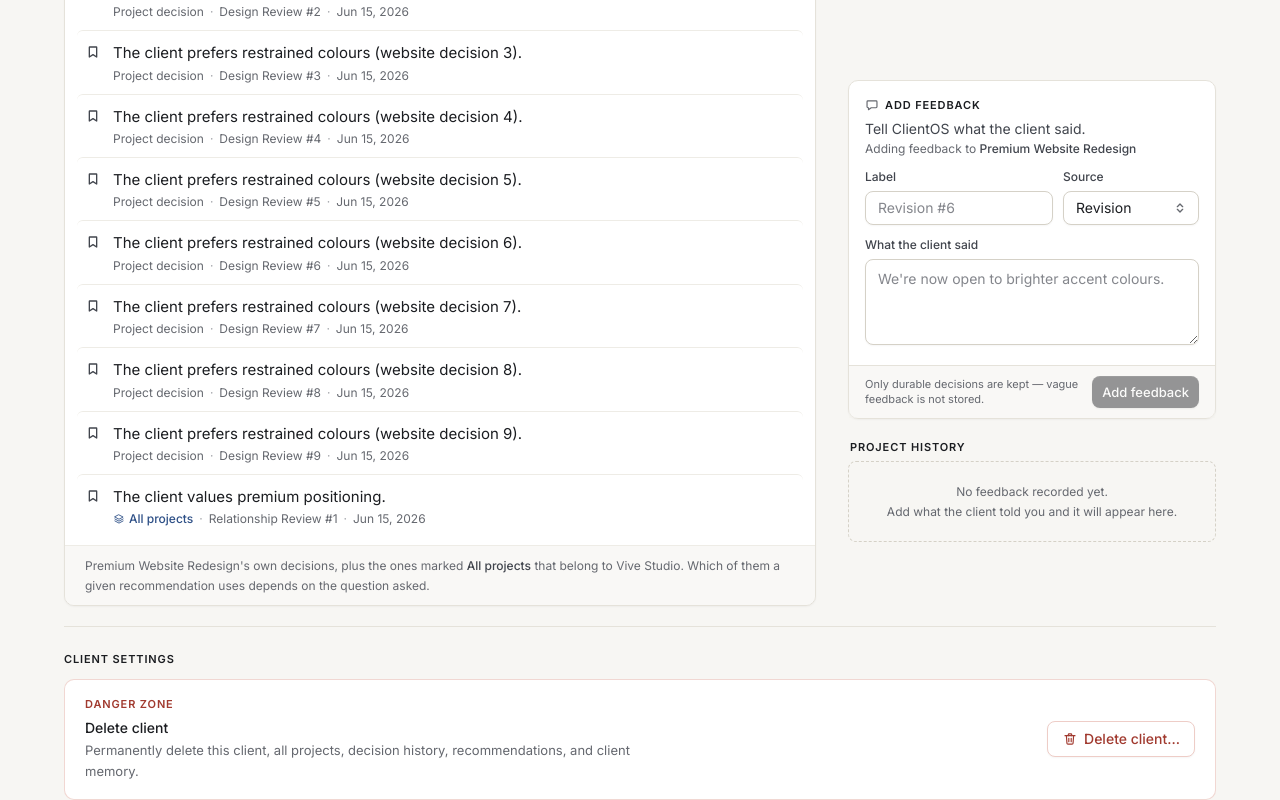
Test: Delete client — action and dialog › the exact client name plus a token enables deletion
(page scrolled)
Click the button "Delete client…" at (1121,739), box x1=1047 y1=721 x2=1195 y2=757
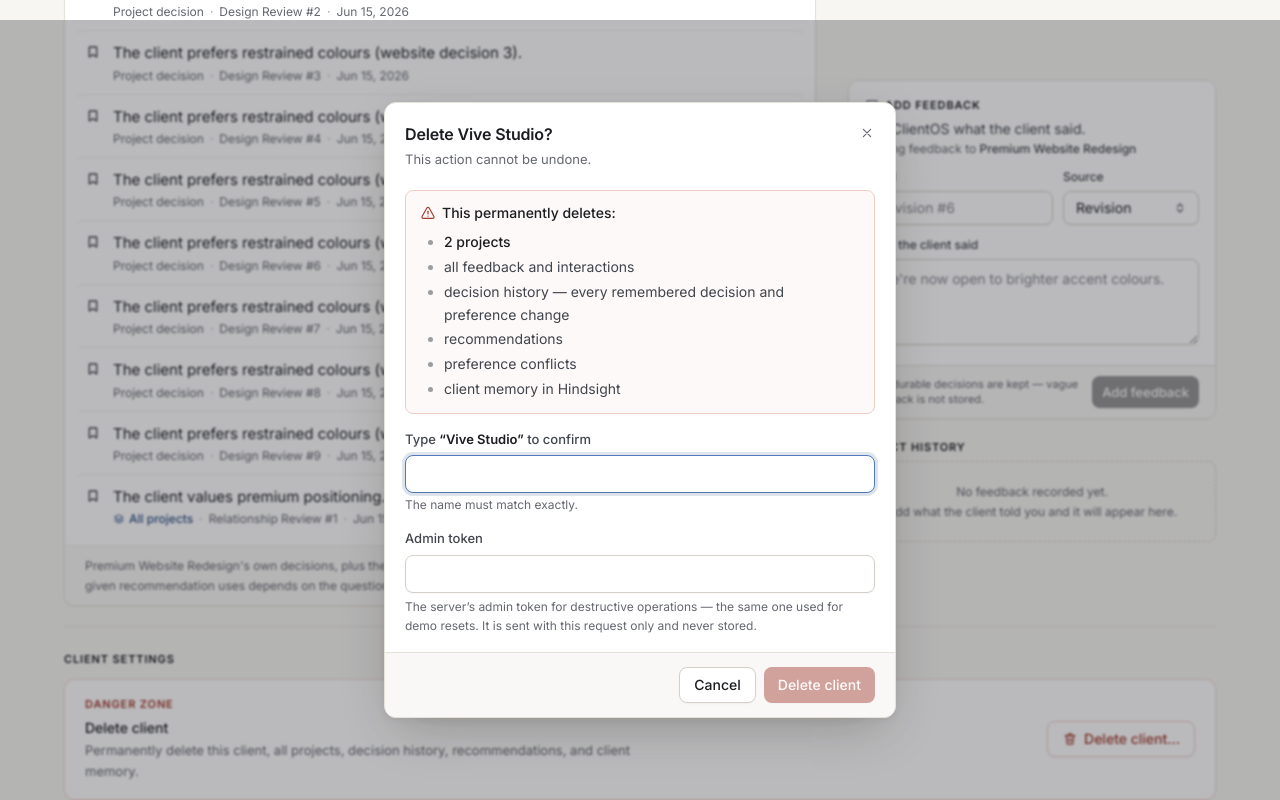
Type "Vive Studio" into the field labelled "Type “Vive Studio” to confirm" at (640,474), box x1=405 y1=455 x2=875 y2=493
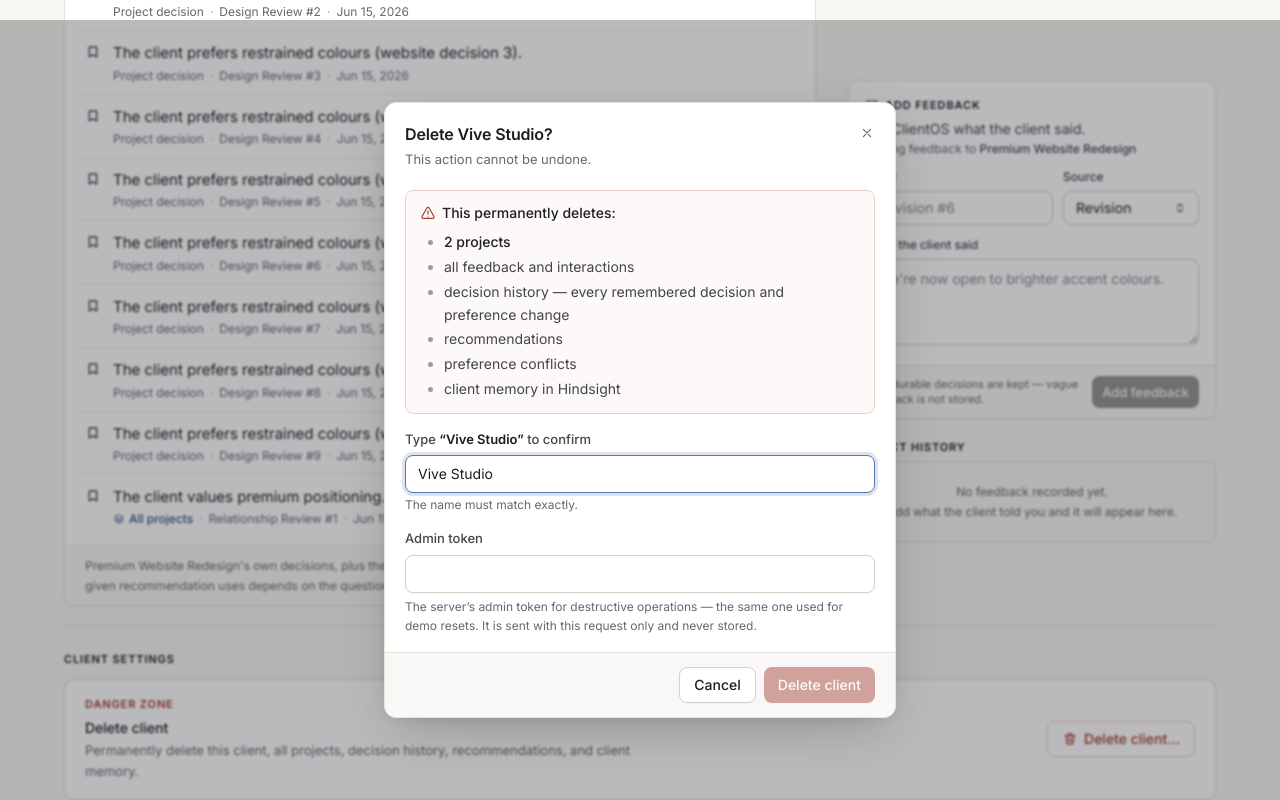
Type "operator-supplied-token" into the password field labelled "Admin token" at (640,574), box x1=405 y1=555 x2=875 y2=593
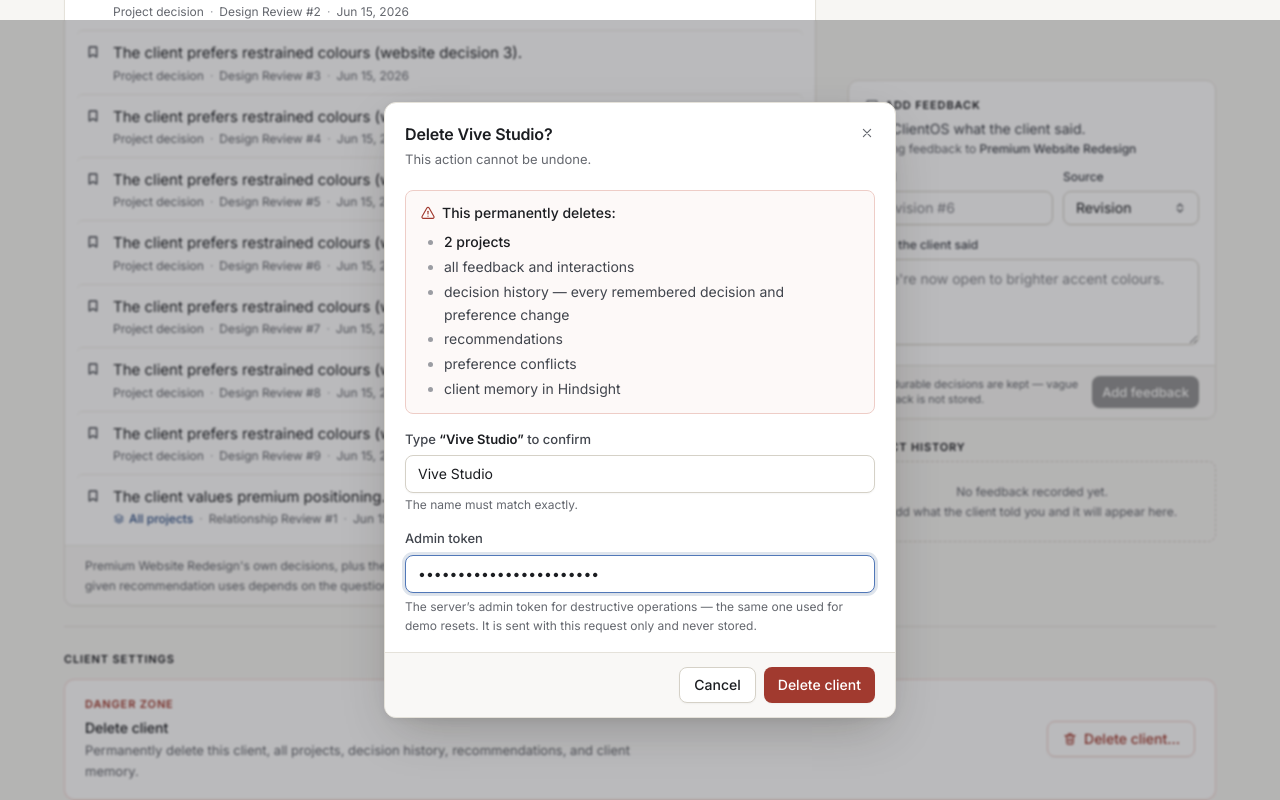
Expected: the button "Delete client" is enabled, x1=764 y1=667 x2=875 y2=703
